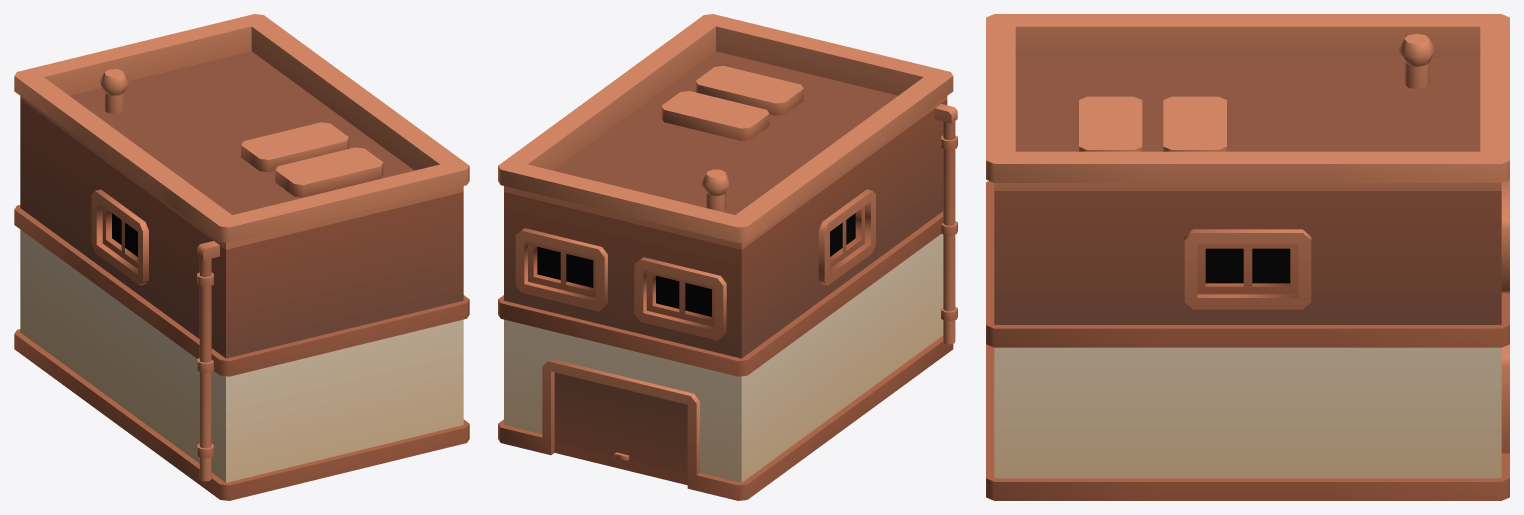
The model's file is building-o.glb.
The picture shows the model from 3 angles, left to right: view 1: azimuth 30°, elevation 25°; view 2: azimuth 150°, elevation 25°; view 3: azimuth 270°, elevation 25°; orthographic projection. The views are drawn at different scales.
Visible parts, largest first — view 1: building-o; view 2: building-o; view 3: building-o.
Boxes of the visible parts, x1=… form: building-o: x1=14, y1=14, x2=469, y2=500; building-o: x1=498, y1=14, x2=957, y2=500; building-o: x1=986, y1=14, x2=1509, y2=500.
Size of the model in its own units: 0.8836 by 0.918 by 1.24.
Materials: 1 (1 with a texture image).
